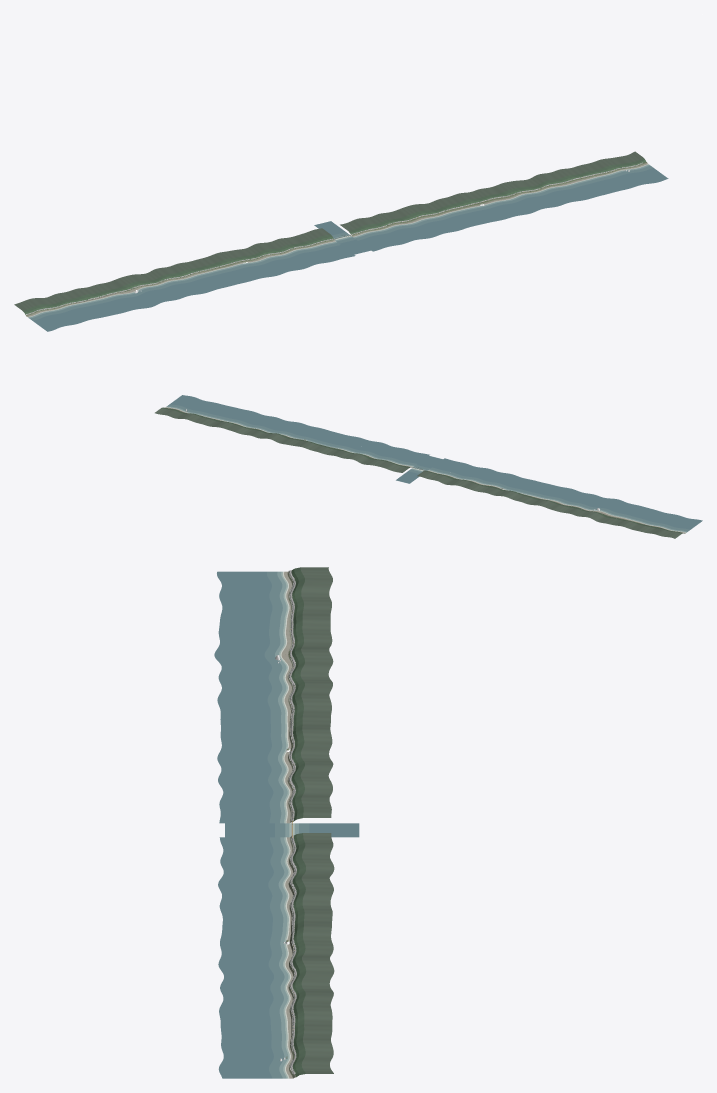
The model's file is oregon.glb.
3 renders of one model, top to bottom at view 1: azimuth 30°, elevation 25°; view 2: azimuth 150°, elevation 25°; view 3: azimuth 270°, elevation 25°, orthographic. The views are drawn at different scales.
Parts seen in each view (by area): view 1: Land_014, Land_003, Land_017, Land_013, Land_015, Land_018, Land_012, Land_019, Land_009, Land_006; view 2: no part large enough to name; view 3: Land_002, Land_018, Land_013, Land_019, Land_000, Land_016, Land_008, Land_007, Land_003, Land_015, Land_005, Land_004 (+13 smaller).
Part boxes in pixels (bbox=[...]): Land_014: bbox=[435, 192, 478, 212]; Land_003: bbox=[105, 274, 145, 294]; Land_017: bbox=[526, 171, 569, 190]; Land_013: bbox=[403, 201, 447, 220]; Land_015: bbox=[467, 185, 509, 205]; Land_018: bbox=[556, 164, 599, 183]; Land_012: bbox=[373, 208, 418, 227]; Land_019: bbox=[588, 156, 629, 175]; Land_009: bbox=[285, 229, 327, 249]; Land_006: bbox=[195, 252, 237, 271]; Land_002: bbox=[286, 616, 332, 645]; Land_018: bbox=[286, 1007, 332, 1038]; Land_013: bbox=[287, 882, 333, 915]; Land_019: bbox=[286, 1034, 333, 1062]; Land_000: bbox=[284, 567, 332, 596]; Land_016: bbox=[285, 958, 334, 989]; Land_008: bbox=[285, 763, 333, 792]; Land_007: bbox=[284, 737, 332, 768]; Land_003: bbox=[281, 644, 333, 669]; Land_015: bbox=[285, 934, 333, 964]; Land_005: bbox=[284, 691, 331, 718]; Land_004: bbox=[285, 666, 332, 693].
Bounding box in the file's own units: 23362 × 2252 × 4716.
